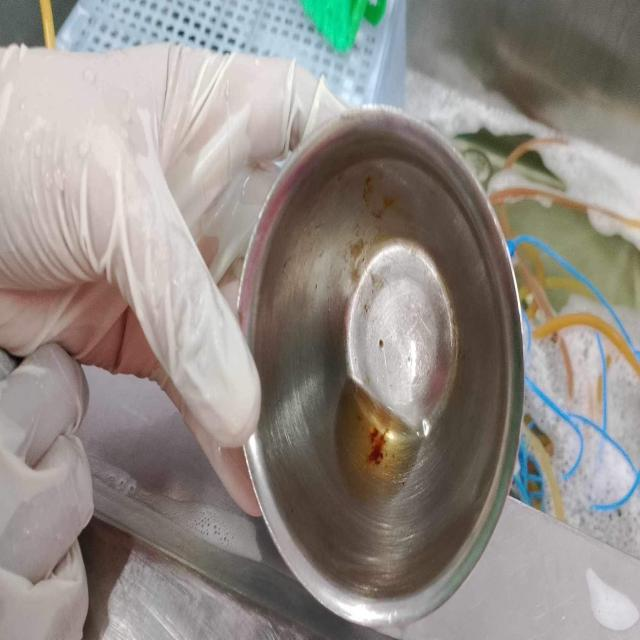General: (234, 101, 527, 634)
